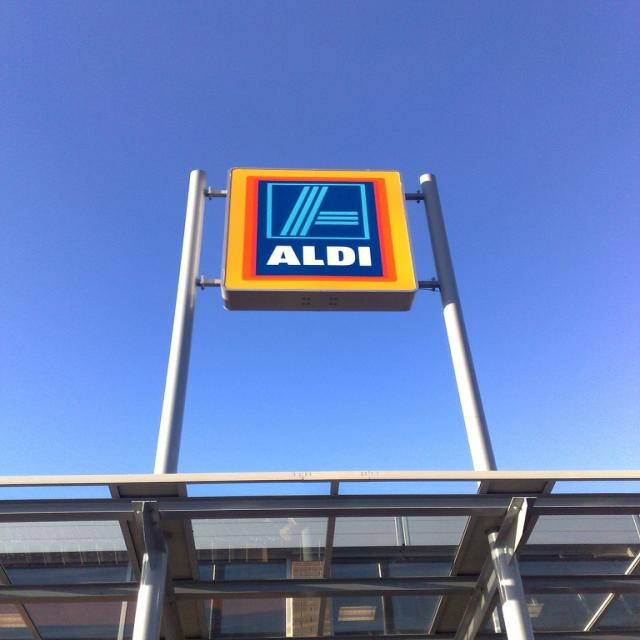aldi: (226, 170, 418, 292)
